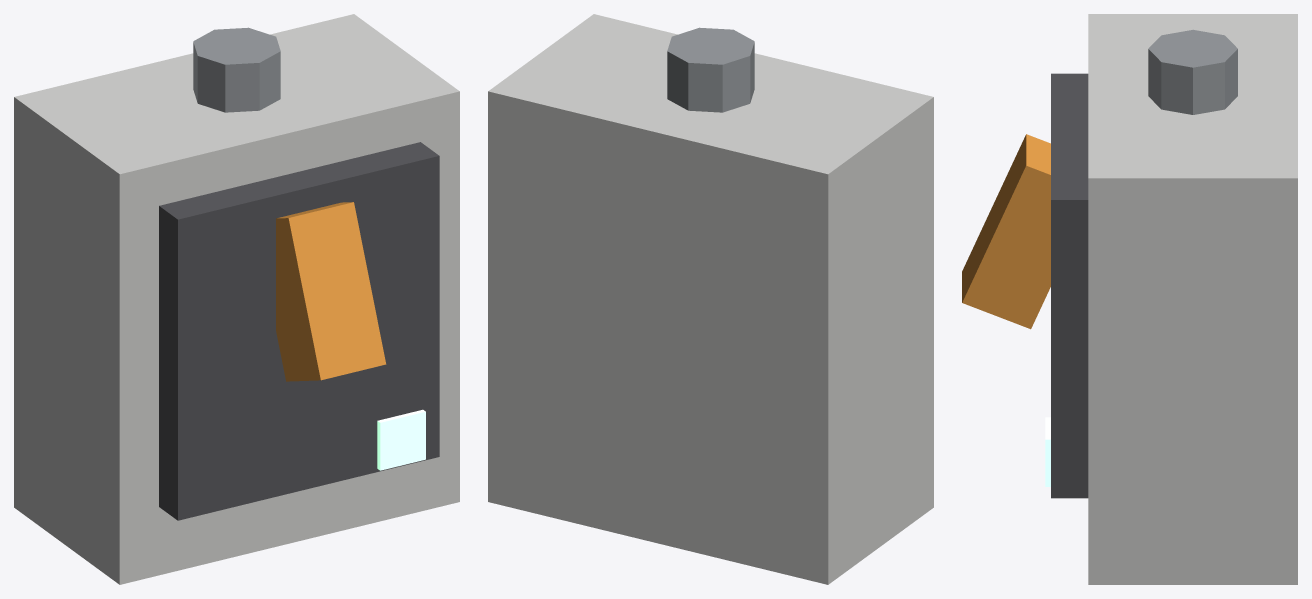
Rendered from smart_switch.glb.
3 renders of one model, left to right at view 1: azimuth 30°, elevation 25°; view 2: azimuth 150°, elevation 25°; view 3: azimuth 270°, elevation 25°, orthographic.
Parts seen in each view (by area): view 1: smart_switch; view 2: smart_switch; view 3: smart_switch.
Boxes of the visible parts, bbox=[...] form: smart_switch: bbox=[14, 14, 459, 584]; smart_switch: bbox=[488, 14, 933, 584]; smart_switch: bbox=[962, 14, 1297, 584].
Bounding box in the file's own units: 0.26 × 0.35 × 0.2244.
